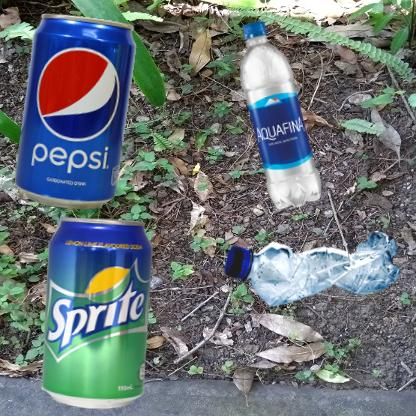botella: (213, 10, 357, 249), (213, 213, 416, 326)
lata: (10, 213, 185, 416), (10, 10, 148, 229)
